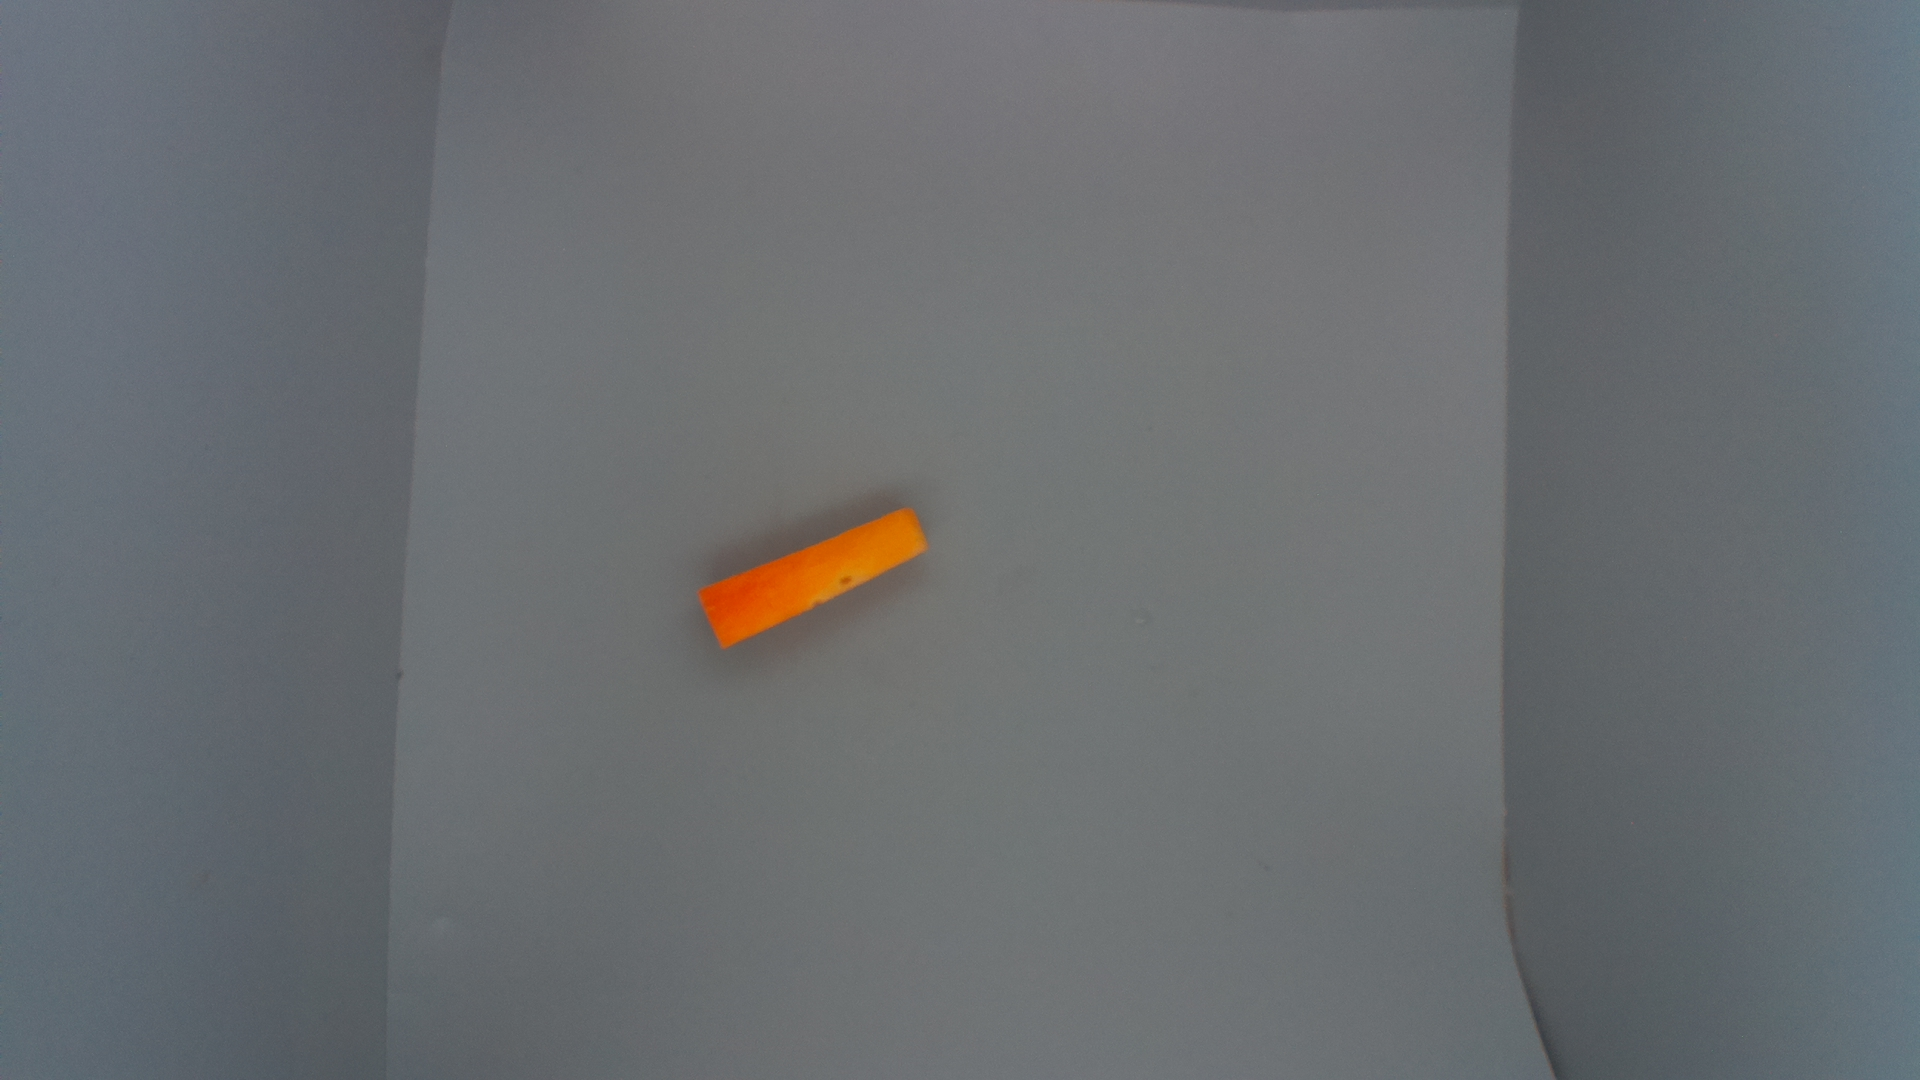carrot: (696, 504, 924, 657)
